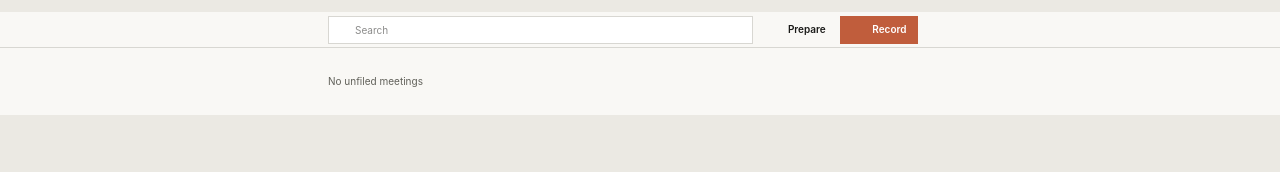
ScribeApp › keeps a failed start on the ready screen with a local actionable message
Click the button "Record".
click(879, 30)  # box [840,16,918,44]
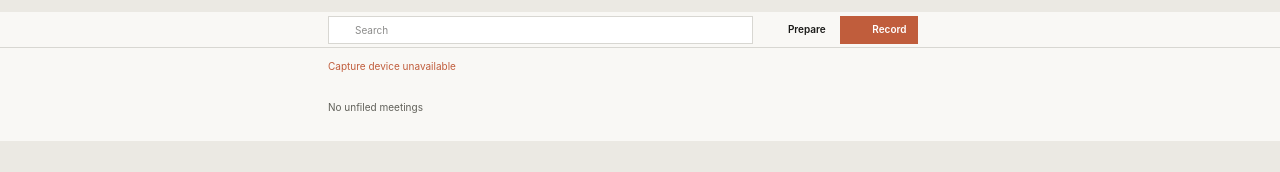
expect the message "Capture device unavailable" is shown: met, box [328,60,456,72]
